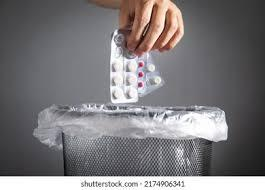pill_Strip: (110, 30, 163, 102), (110, 30, 137, 102), (138, 54, 163, 96), (137, 54, 146, 95)
